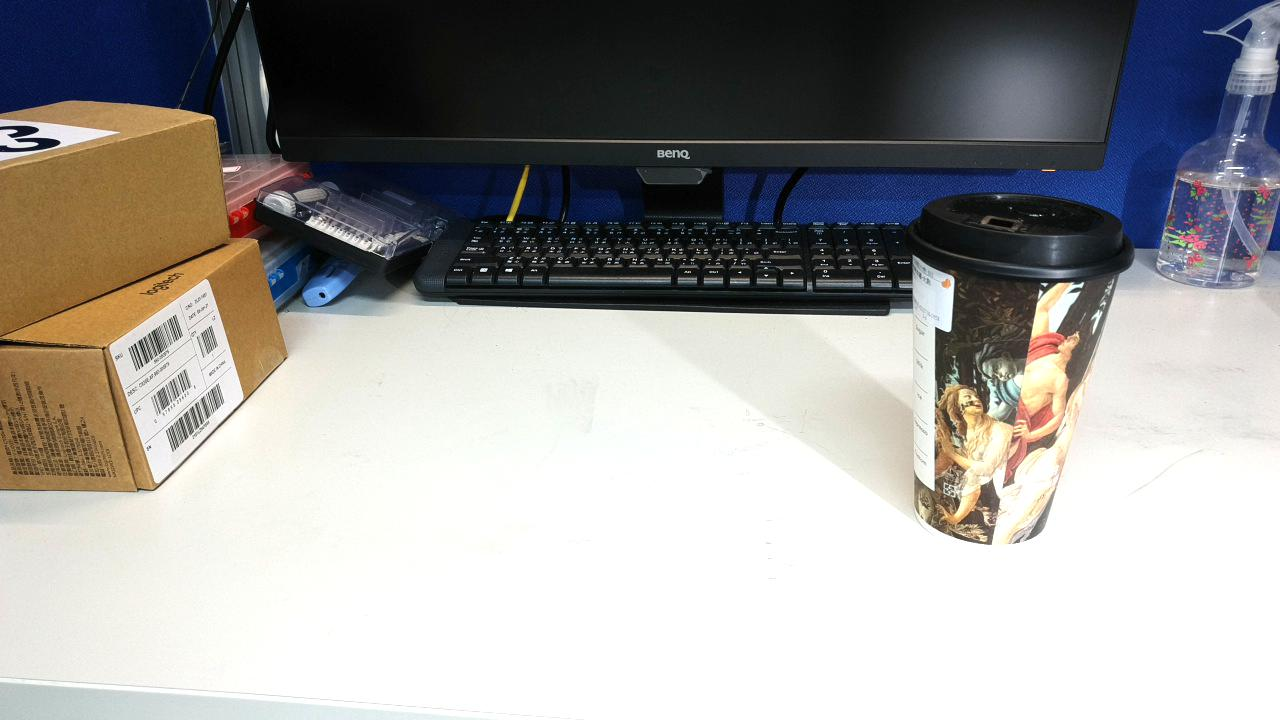circle: (363, 419, 491, 511)
